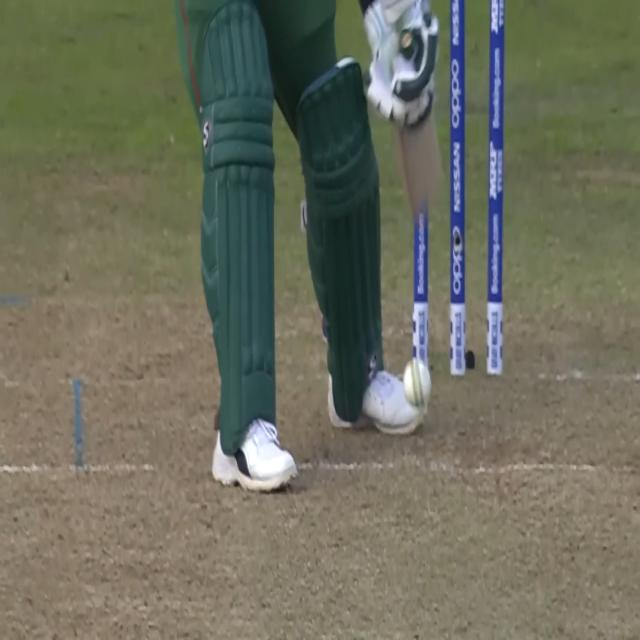ball: (402, 359, 432, 405)
